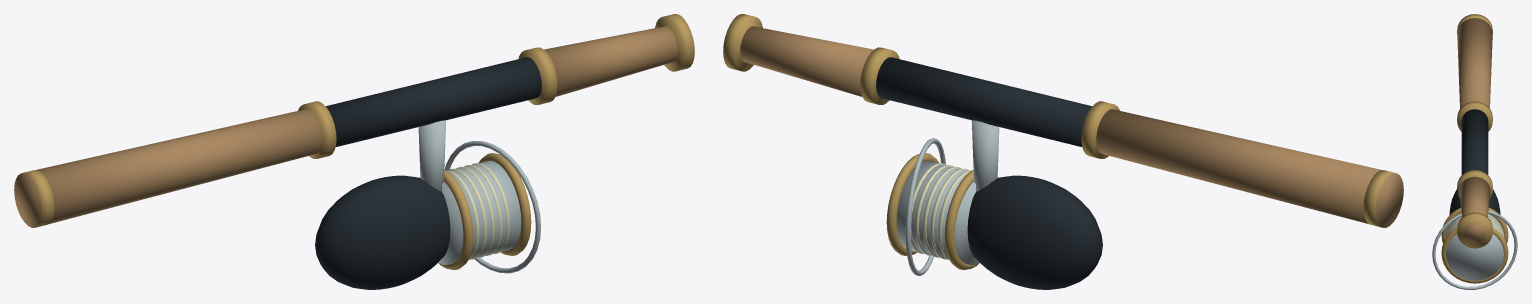
File: SM_RodHandle.fbx
3 views of the same model, side by side, from view 1: azimuth 30°, elevation 25°; view 2: azimuth 150°, elevation 25°; view 3: azimuth 270°, elevation 25° (orthographic). The views are drawn at different scales.
Parts seen in each view (by area): view 1: SM_RodHandle; view 2: SM_RodHandle; view 3: SM_RodHandle.
Boxes of the visible parts, x1,y1,x2,y2 form: SM_RodHandle: (14, 14, 694, 289); SM_RodHandle: (723, 14, 1403, 289); SM_RodHandle: (1432, 14, 1517, 289).
Size of the model in its own units: 43 by 7.65 by 13.05.
